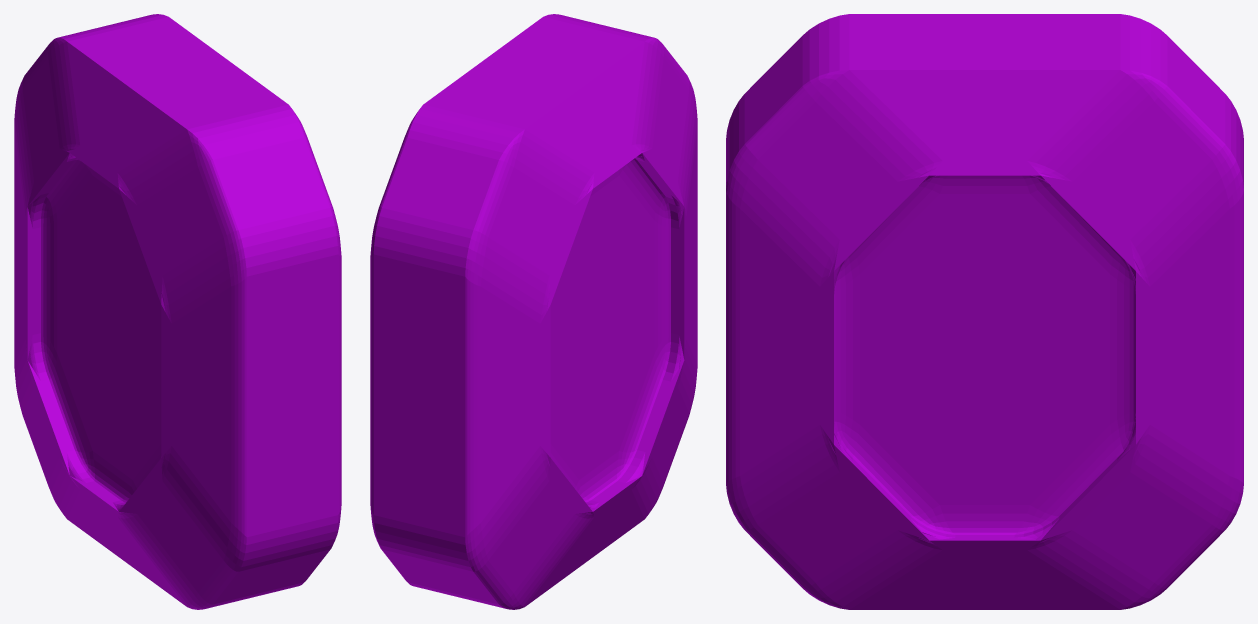
File: Gem-coin.fbx
The picture shows the model from 3 angles, left to right: view 1: azimuth 30°, elevation 25°; view 2: azimuth 150°, elevation 25°; view 3: azimuth 270°, elevation 25°; orthographic projection. The views are drawn at different scales.
Visible parts, largest first — view 1: Cube; view 2: Cube; view 3: Cube.
Boxes of the visible parts, <box> form: Cube: <box>14,14,341,609</box>; Cube: <box>370,14,697,609</box>; Cube: <box>726,14,1243,609</box>.
Size of the model in its own units: 84.24 by 230 by 200.
